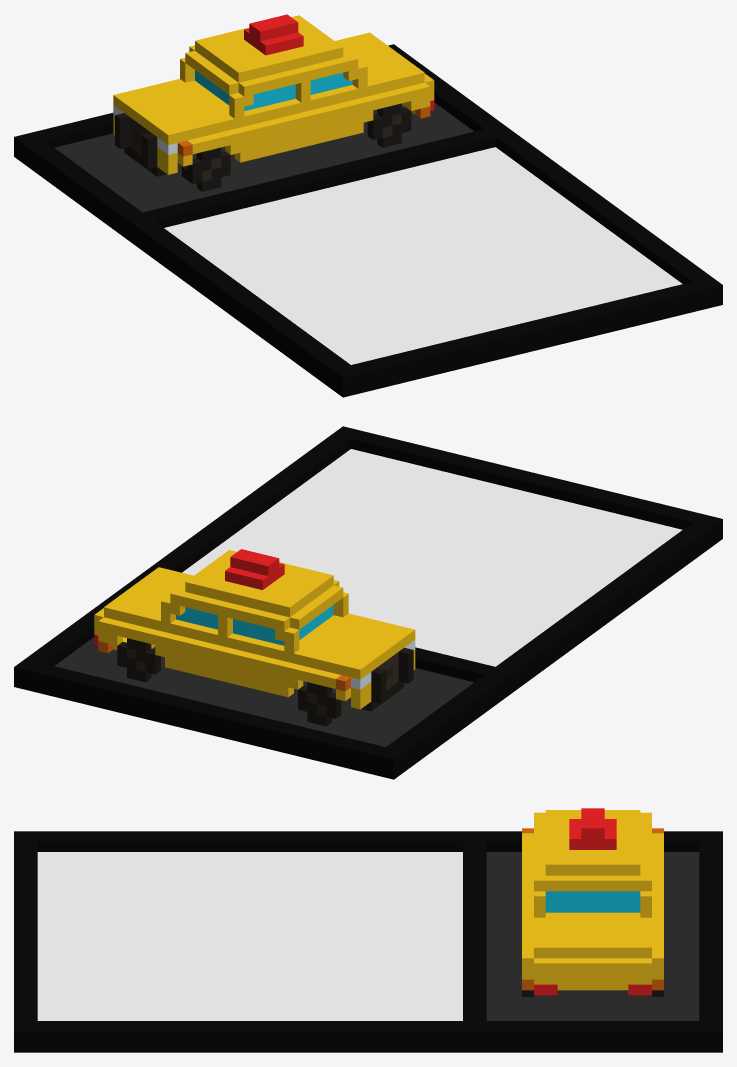
Rendered from tile22.obj.
The picture shows the model from 3 angles, top to bottom: view 1: azimuth 30°, elevation 25°; view 2: azimuth 150°, elevation 25°; view 3: azimuth 270°, elevation 25°; orthographic projection. The views are drawn at different scales.
Size of the model in its own units: 4 by 1.3 by 6.
1 material, 1 textured.
